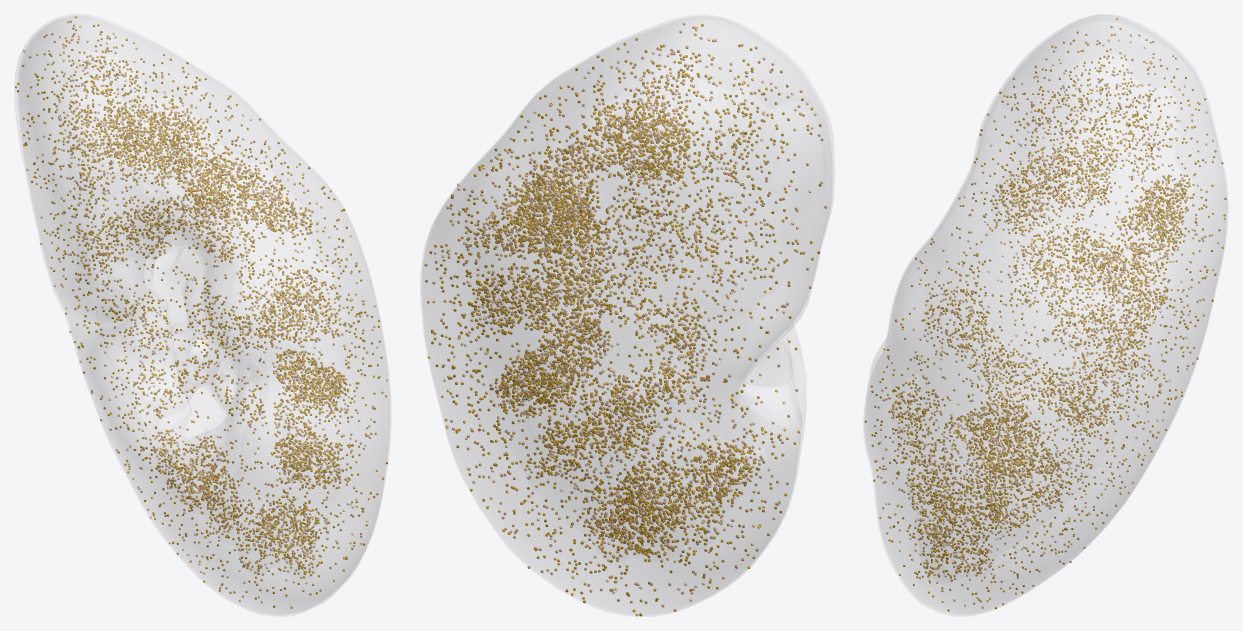
Rendered from 3d-vh-f-kidney-l-UBERON_0004538-all-as-azimuth-sphere-hra-pop.glb.
3 views of the same model, side by side, from view 1: azimuth 30°, elevation 25°; view 2: azimuth 150°, elevation 25°; view 3: azimuth 270°, elevation 25° (orthographic). The views are drawn at different scales.
Parts seen in each view (by area): view 1: VH_F_kidney_capsule_L, VH_F_outer_cortex_of_kidney_L, VH_F_hilum_of_kidney_L, VH_F_renal_column_L, VH_F_renal_pyramid_L_g; view 2: VH_F_kidney_capsule_L, VH_F_outer_cortex_of_kidney_L, VH_F_hilum_of_kidney_L; view 3: VH_F_kidney_capsule_L, VH_F_outer_cortex_of_kidney_L.
Part boxes in pixels (left/top/right/bottom): VH_F_kidney_capsule_L: left=15, top=14, right=390, bottom=616; VH_F_outer_cortex_of_kidney_L: left=19, top=19, right=389, bottom=615; VH_F_hilum_of_kidney_L: left=94, top=169, right=266, bottom=490; VH_F_renal_column_L: left=147, top=246, right=227, bottom=413; VH_F_renal_pyramid_L_g: left=158, top=276, right=232, bottom=412; VH_F_kidney_capsule_L: left=420, top=14, right=834, bottom=616; VH_F_outer_cortex_of_kidney_L: left=422, top=19, right=831, bottom=615; VH_F_hilum_of_kidney_L: left=738, top=335, right=801, bottom=428; VH_F_kidney_capsule_L: left=863, top=14, right=1228, bottom=616; VH_F_outer_cortex_of_kidney_L: left=865, top=21, right=1226, bottom=614.
Size of the model in its own units: 0.0731 by 0.1249 by 0.0776.
